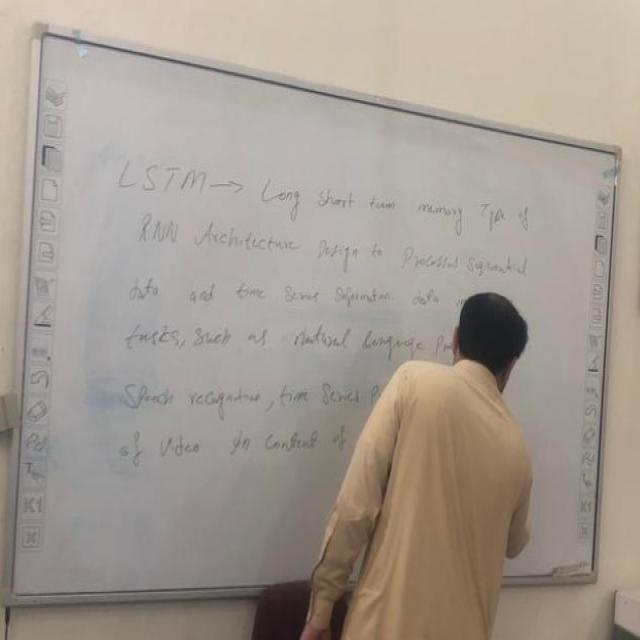Instructor: (370, 281, 524, 640)
White-board: (15, 23, 622, 602)
